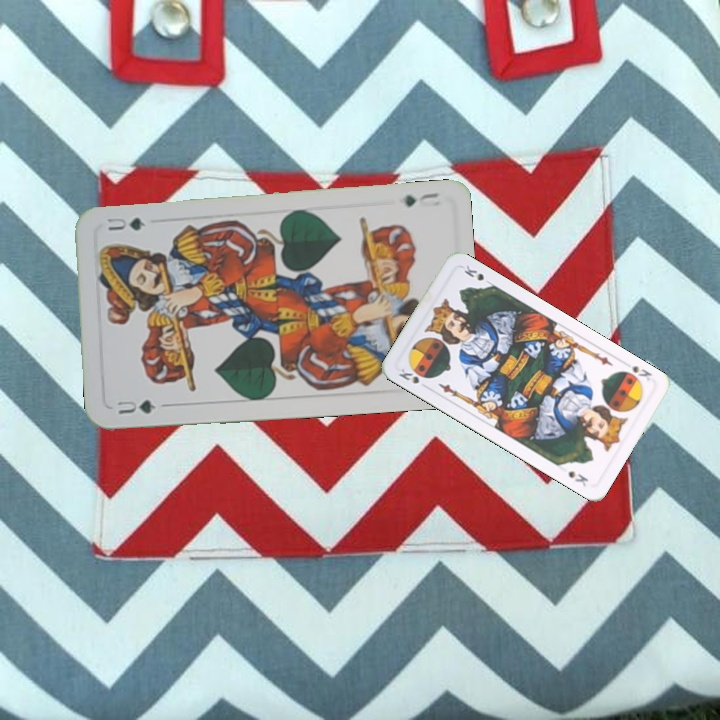GU: (113, 395, 159, 417), (399, 189, 442, 210)
SK: (394, 364, 431, 391), (628, 361, 655, 383)
